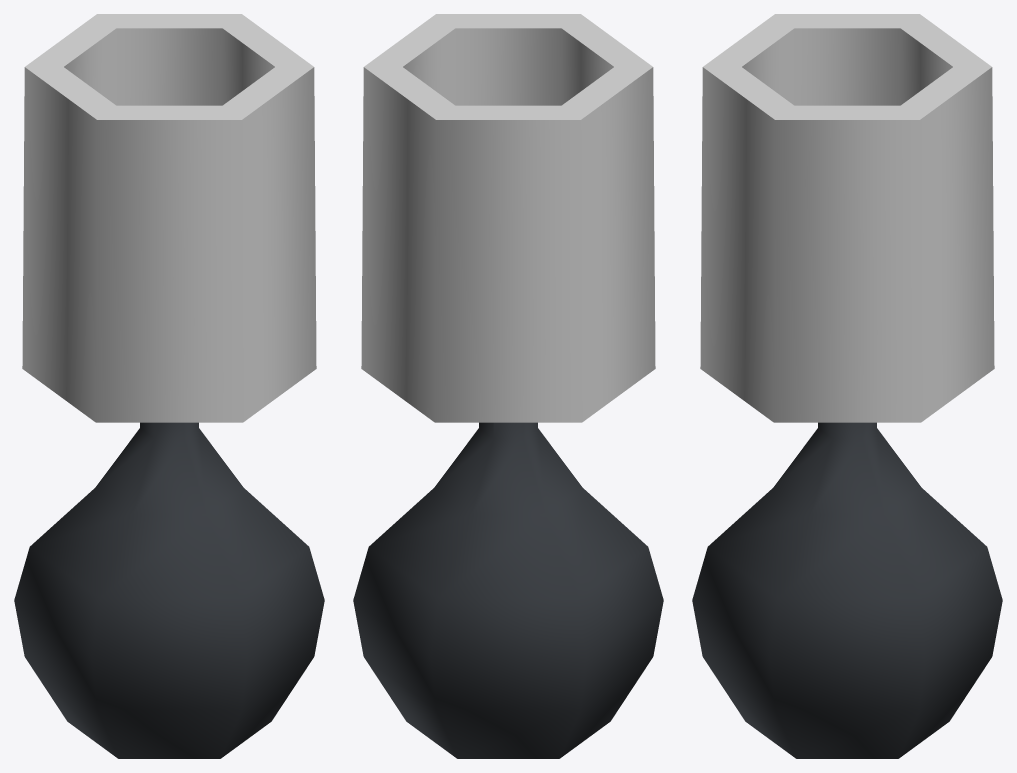
The model's file is SM_Prop_DeskLamp_07.obj.
3 renders of one model, left to right at view 1: azimuth 30°, elevation 25°; view 2: azimuth 150°, elevation 25°; view 3: azimuth 270°, elevation 25°, orthographic.
Parts seen in each view (by area): view 1: SM_Prop_DeskLamp_07_Mat_Glow_Lamp_Inst, SM_Prop_DeskLamp_07_Mat_SwatchOverlay_PolygonOffice_01_Inst; view 2: SM_Prop_DeskLamp_07_Mat_Glow_Lamp_Inst, SM_Prop_DeskLamp_07_Mat_SwatchOverlay_PolygonOffice_01_Inst; view 3: SM_Prop_DeskLamp_07_Mat_Glow_Lamp_Inst, SM_Prop_DeskLamp_07_Mat_SwatchOverlay_PolygonOffice_01_Inst.
Boxes of the visible parts, x1=… form: SM_Prop_DeskLamp_07_Mat_Glow_Lamp_Inst: x1=22, y1=14, x2=316, y2=422; SM_Prop_DeskLamp_07_Mat_SwatchOverlay_PolygonOffice_01_Inst: x1=14, y1=422, x2=324, y2=758; SM_Prop_DeskLamp_07_Mat_Glow_Lamp_Inst: x1=361, y1=14, x2=655, y2=422; SM_Prop_DeskLamp_07_Mat_SwatchOverlay_PolygonOffice_01_Inst: x1=353, y1=422, x2=663, y2=758; SM_Prop_DeskLamp_07_Mat_Glow_Lamp_Inst: x1=700, y1=14, x2=994, y2=422; SM_Prop_DeskLamp_07_Mat_SwatchOverlay_PolygonOffice_01_Inst: x1=692, y1=422, x2=1002, y2=758.
Size of the model in its own units: 0.1807 by 0.4853 by 0.2087.
Materials: 2 (1 with a texture image).
